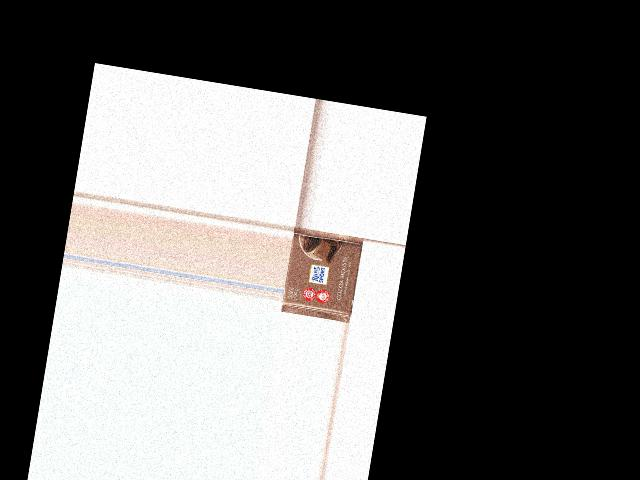chocolate: (281, 226, 364, 321)
